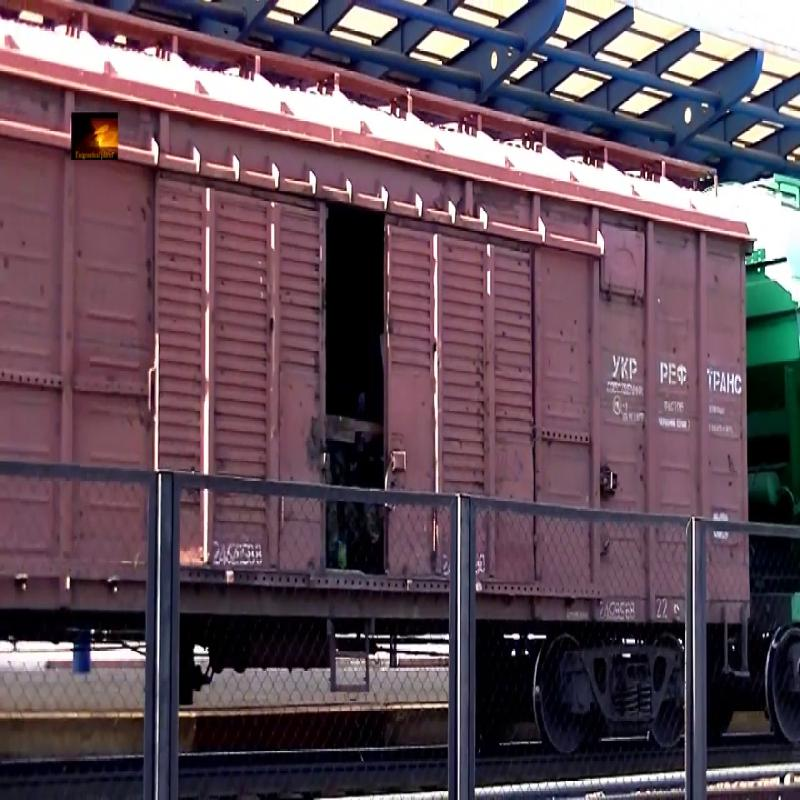train: (1, 5, 764, 769)
